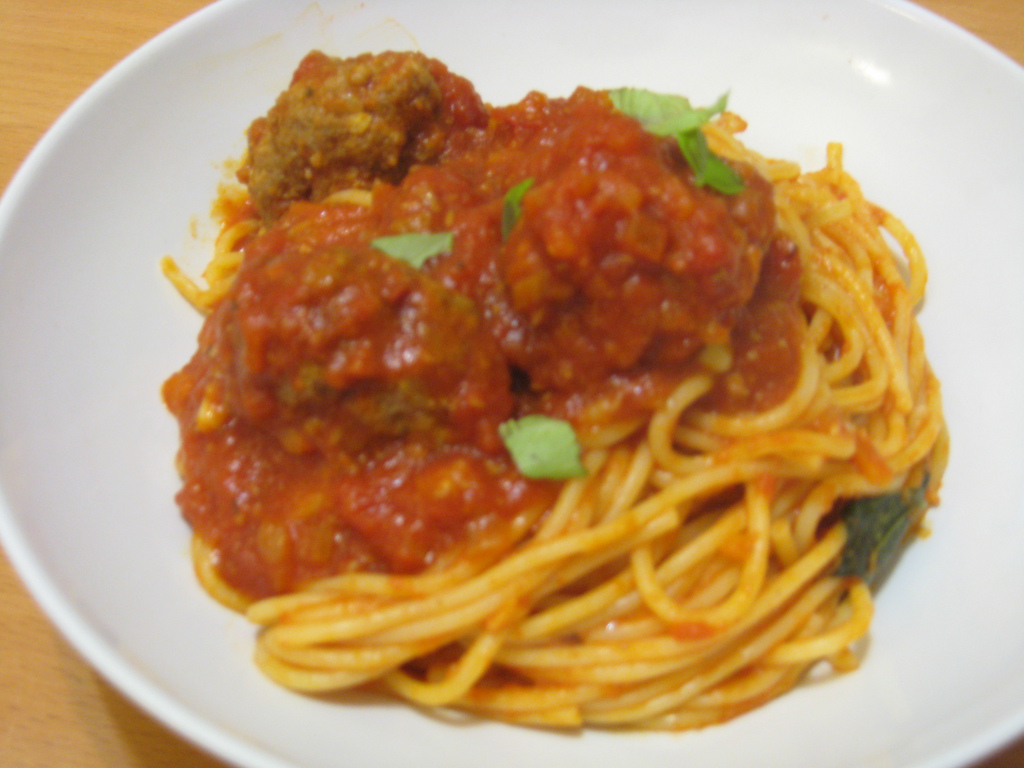meatballs: (217, 51, 509, 212)
plain spaghetti: (214, 137, 942, 740)
